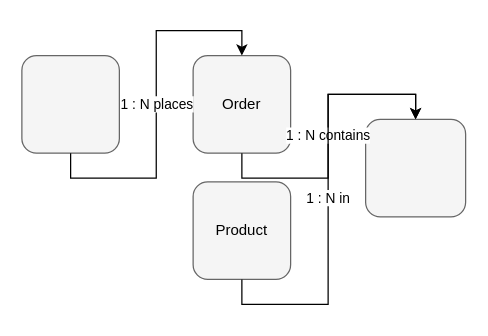
Some shapes in this 488 by 336 pixel diagram are drawn without their labels. The centre of each missing label's shape, as x and y in pixels:
"OrderItem" belongs at (415,167).
"User" belongs at (70,103).
